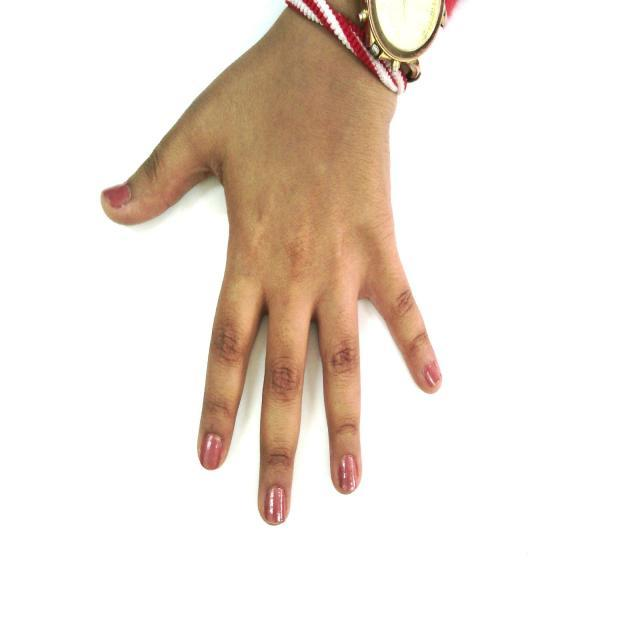Fingernail: (264, 486, 286, 523), (338, 453, 357, 492), (202, 434, 222, 469), (103, 186, 130, 209), (425, 363, 440, 385)
